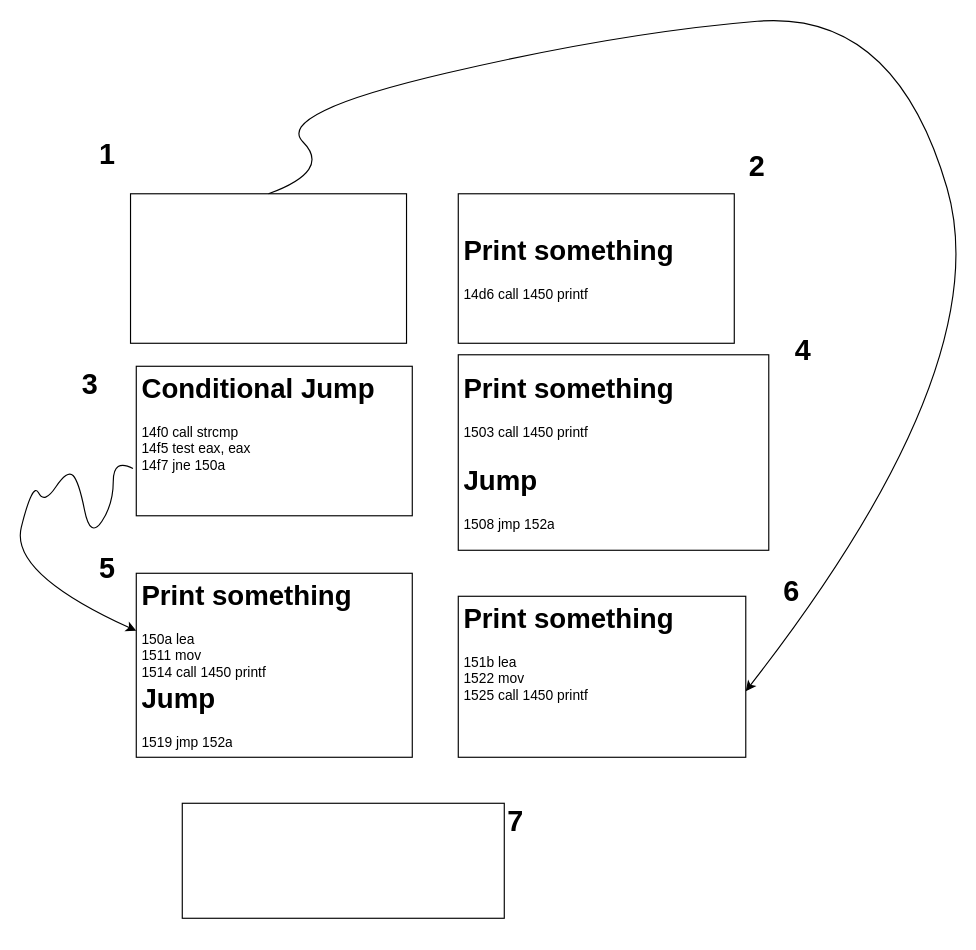
The diagram is 976 pixels wide and 950 high, and some of its shapes have lost their labels. The shapes that lost their labels are listed below. From the top down, each one's box as (x1, y1, x2, y2) in pixels, then its label:
(129, 193, 407, 343): Conditional Jump 14b8 cmp DWORD PTR [rbp+0x10], 0x2 14bc jne 151b
(181, 802, 504, 918): Exit 152a mov 152f add 1533 pop
